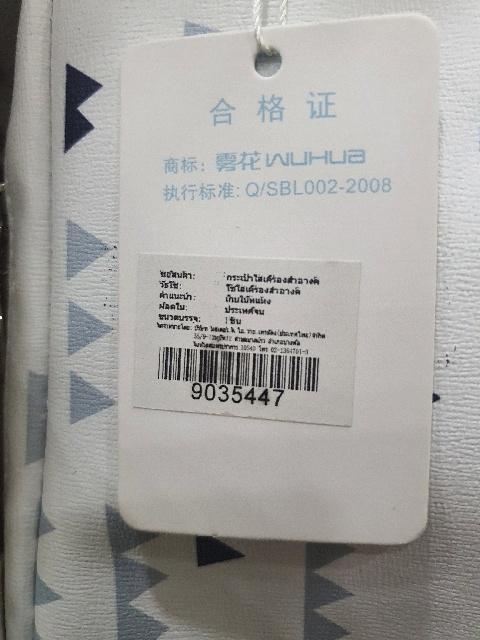Barcode: (147, 338, 331, 411)
